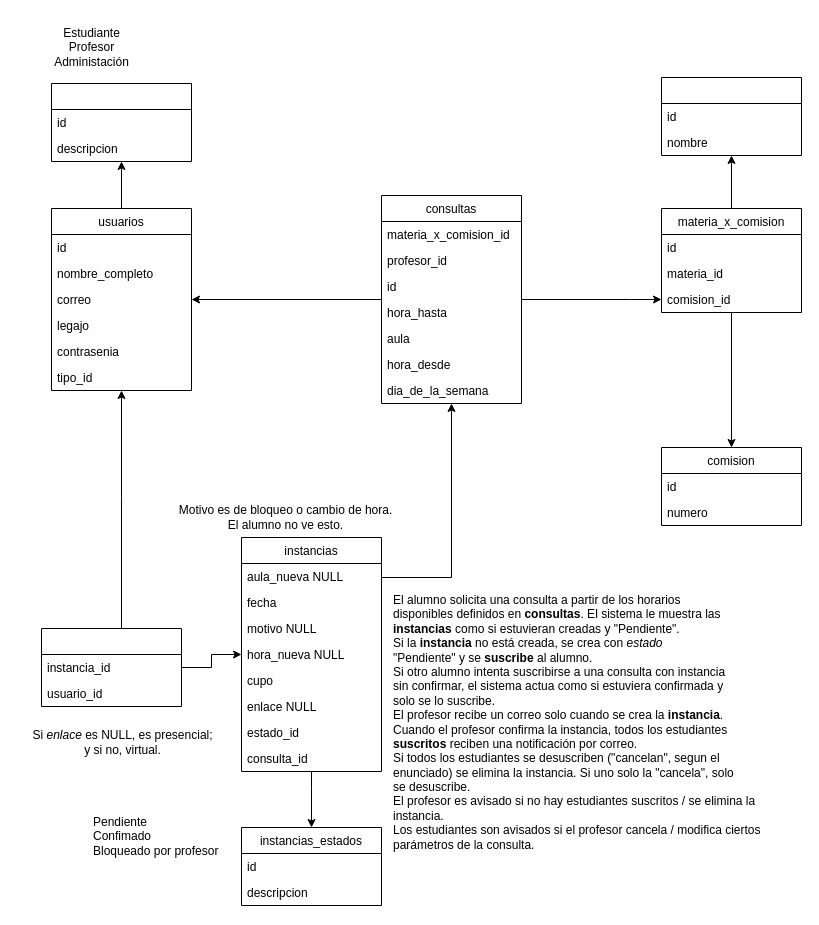
Image size: 819x925. Some labels were removed from this diagram. Here are the shapes that lost their labels. From the top down, the box of each, then its label:
(50, 82, 192, 162): usuarios_tipos
(660, 76, 802, 156): materia
(40, 628, 182, 706): subscripciones
